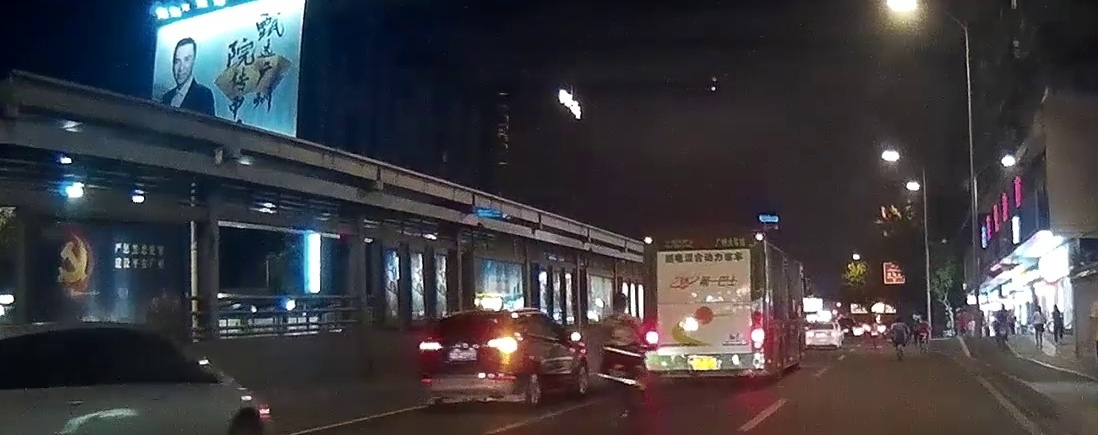L_light: (643, 317, 658, 349), (419, 341, 443, 351)
R_light: (751, 311, 763, 347), (488, 338, 514, 349)
T_light: (692, 240, 711, 246), (465, 315, 481, 320)
night-no: (643, 231, 764, 388)
night-right: (419, 311, 518, 409)
